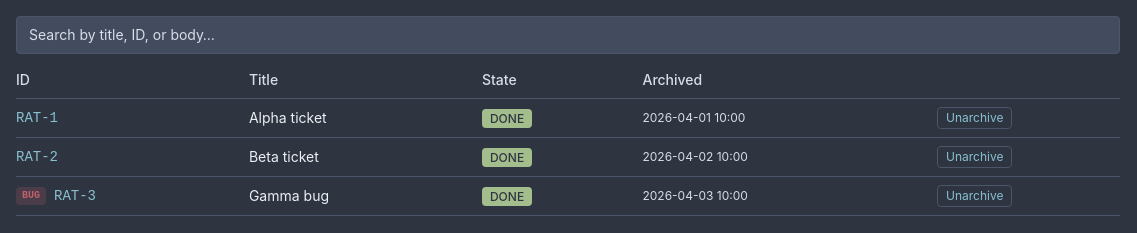
ArchiveTab › should filter rows when the user types in the search box
This screenshot has width=1137, height=233.
Step 1. Type "alpha" into the field with placeholder "Search by title, ID, or body…" → (568, 35), box [16,16,1120,54]
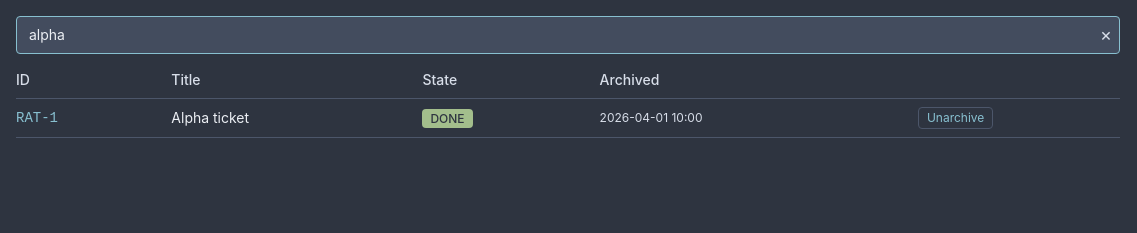
expect the text "Alpha ticket" is shown: met, box [171,98,422,138]
expect the text "Beta ticket" is gone: met
expect the text "Gamma bug" is gone: met
